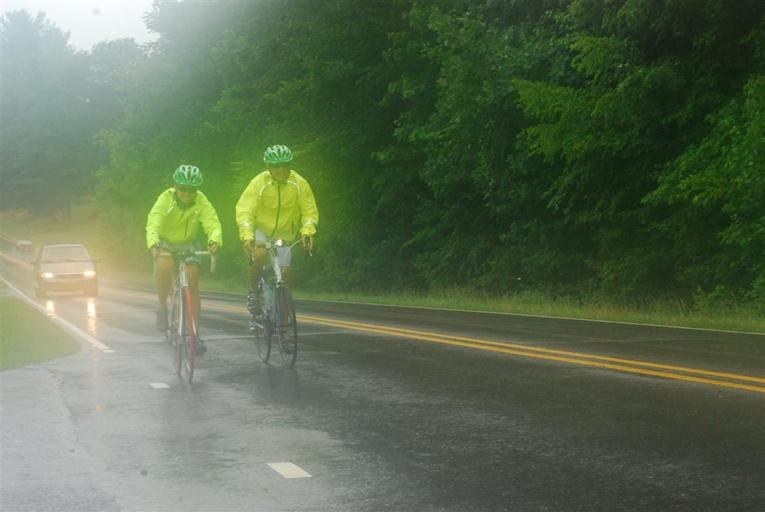non-vehicle: (154, 250, 216, 385), (248, 238, 310, 369)
